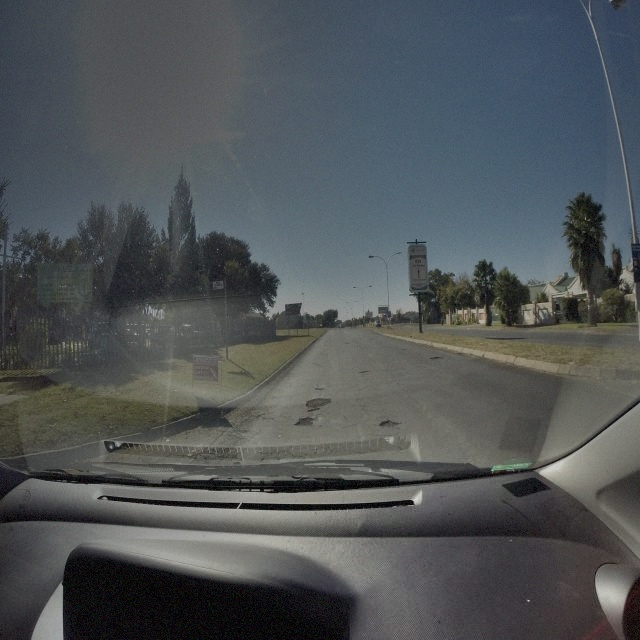pothole: (294, 414, 314, 428), (306, 399, 331, 410), (379, 419, 399, 430), (428, 354, 444, 359), (316, 386, 326, 393), (360, 369, 370, 374)
